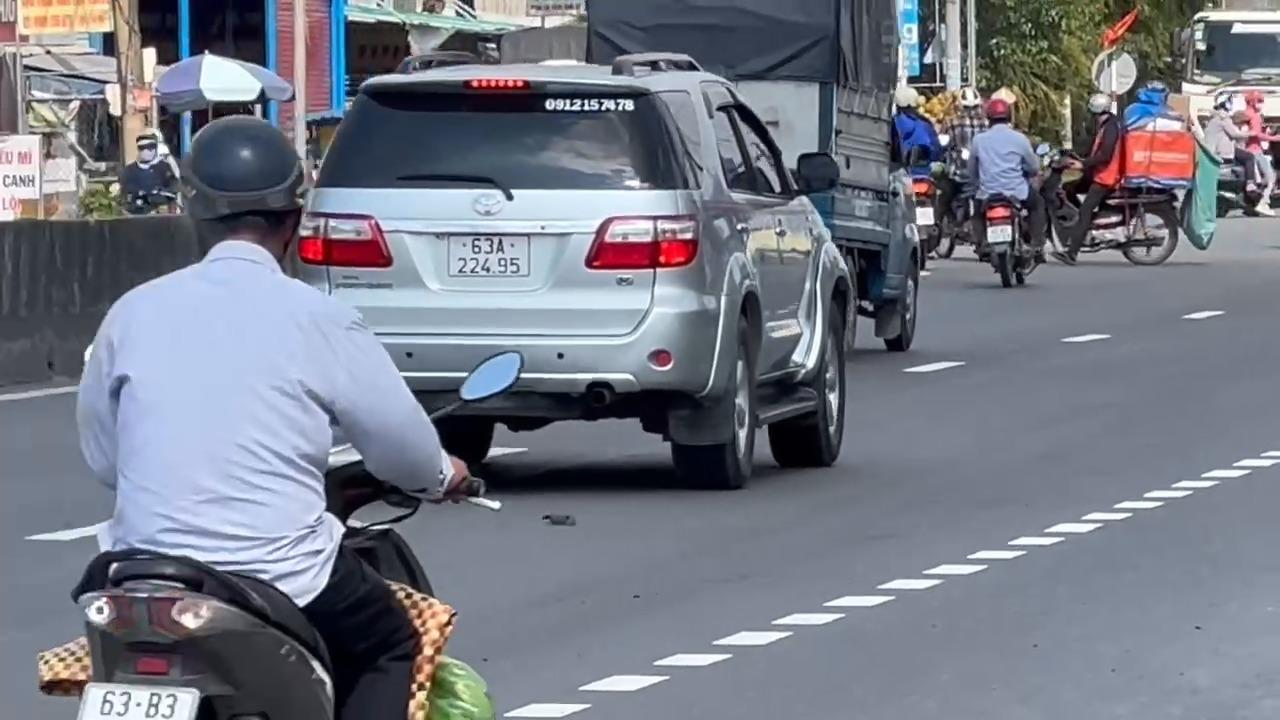bien_so: (75, 681, 200, 718), (445, 233, 530, 277)
